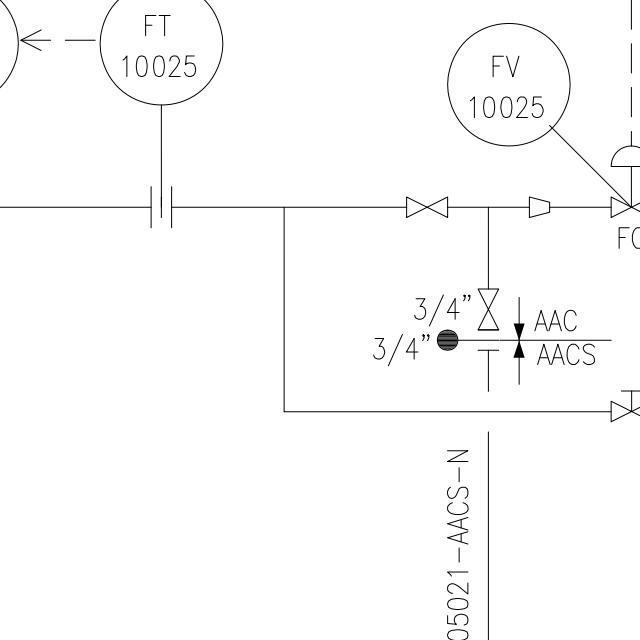GV: (475, 283, 503, 333), (402, 195, 452, 220)
SP: (523, 196, 552, 218)
